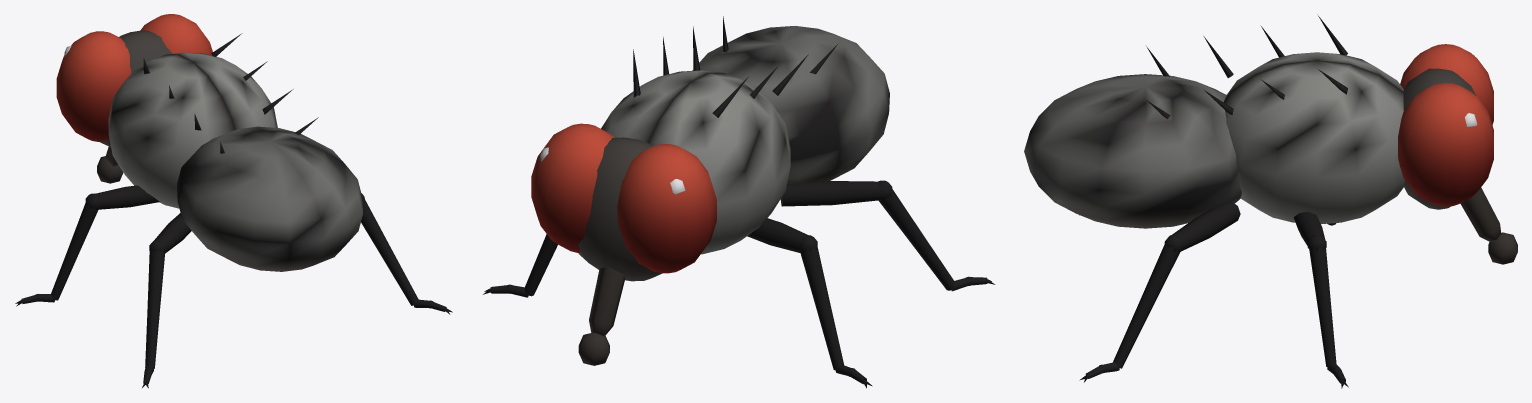
File: Hae_Body.fbx
The picture shows the model from 3 angles, left to right: view 1: azimuth 30°, elevation 25°; view 2: azimuth 150°, elevation 25°; view 3: azimuth 270°, elevation 25°; orthographic projection. The views are drawn at different scales.
Parts seen in each view (by area): view 1: Hae_Body; view 2: Hae_Body; view 3: Hae_Body.
Part boxes in pixels (<box>): Hae_Body: <box>15,14,452,388</box>; Hae_Body: <box>483,16,995,388</box>; Hae_Body: <box>1024,14,1517,388</box>.
Size of the model in its own units: 0.301 by 0.1987 by 0.3454.
